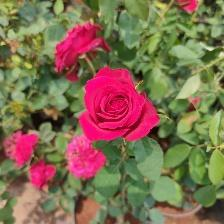rose: (78, 65, 162, 145), (57, 20, 106, 77)
